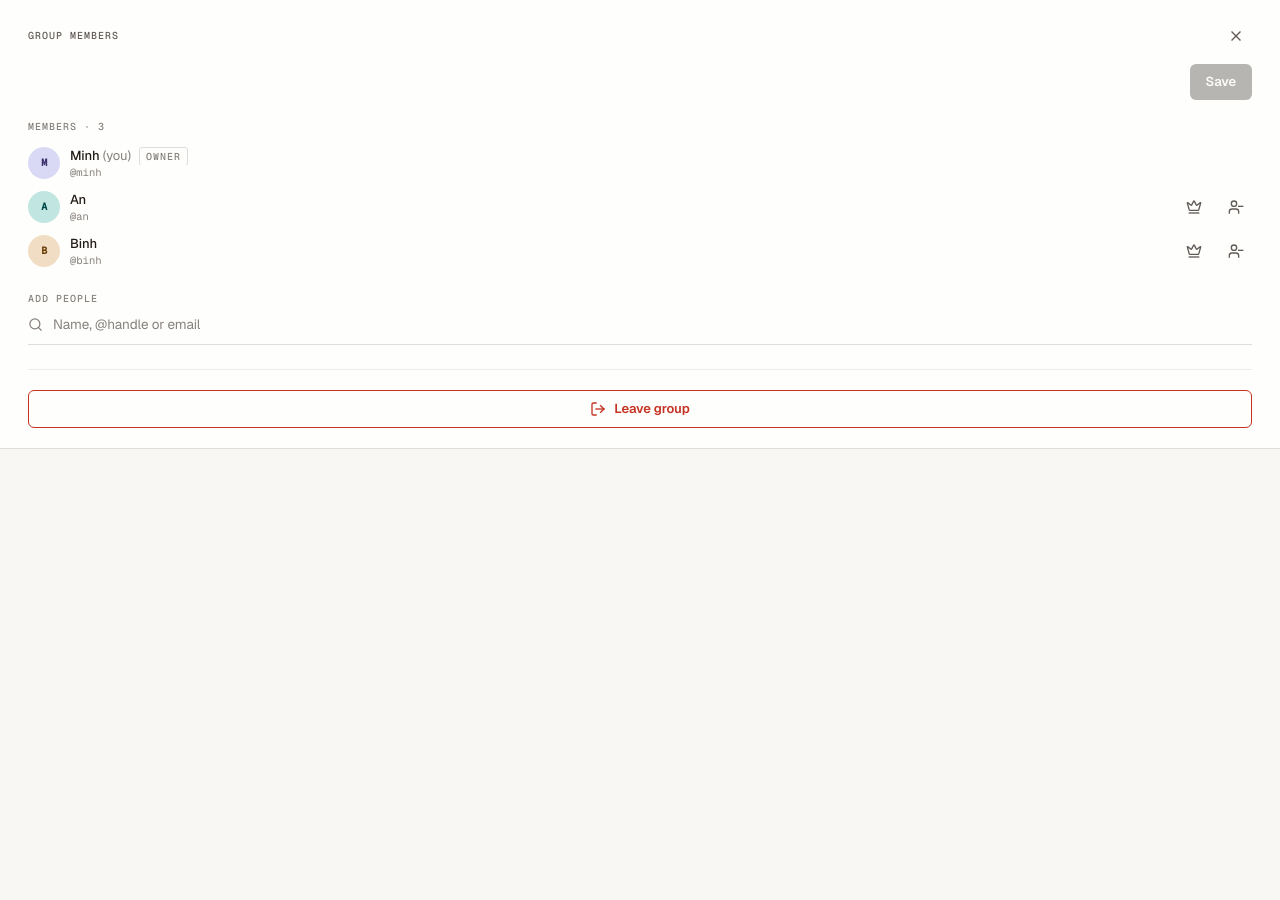
Test case: GroupMembersPanel › surfaces a failed removal instead of failing silently
Click the button named "Remove An from the group": click(1236, 207) [1220, 191, 1252, 223]
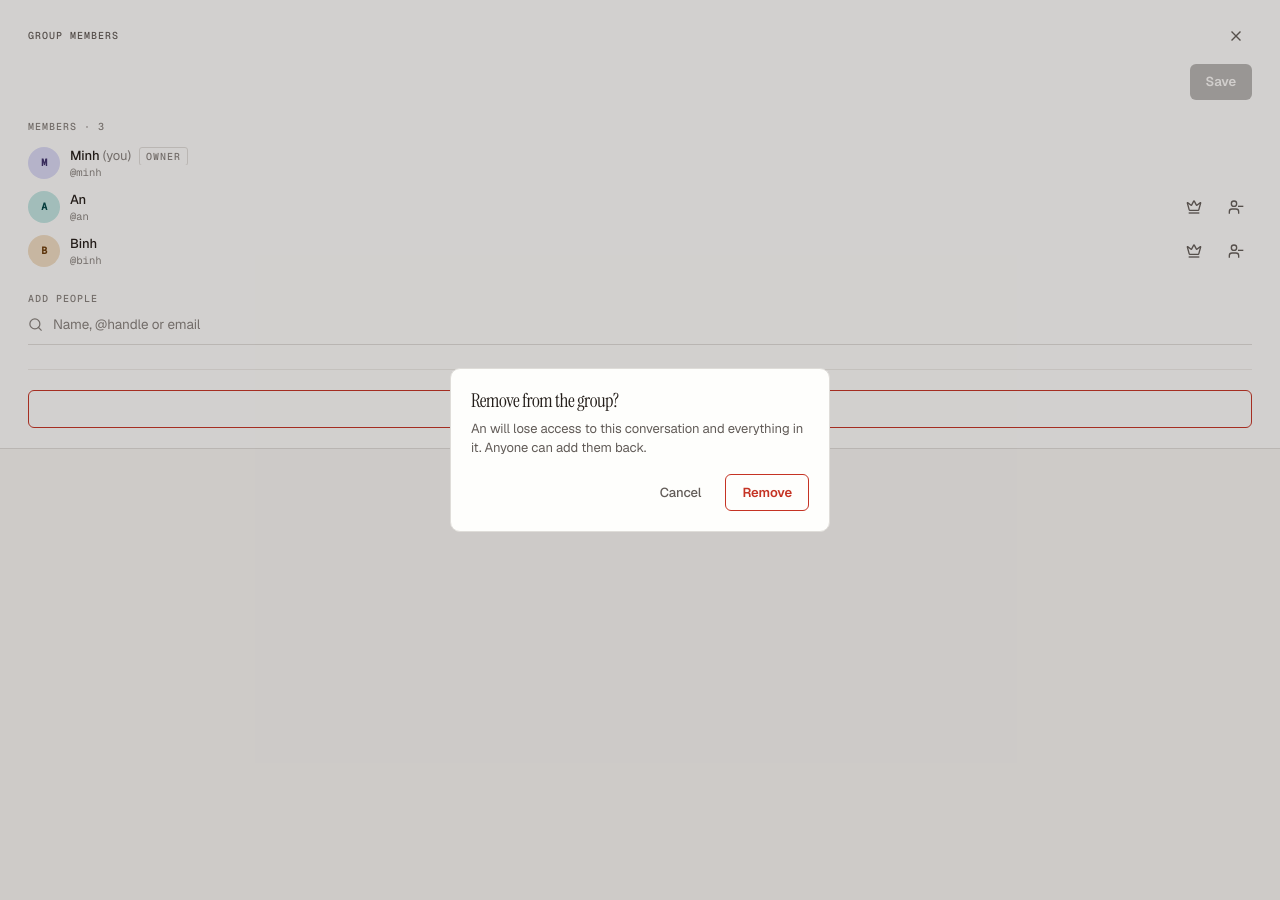
Click the button "Remove": click(767, 492) [725, 474, 809, 511]
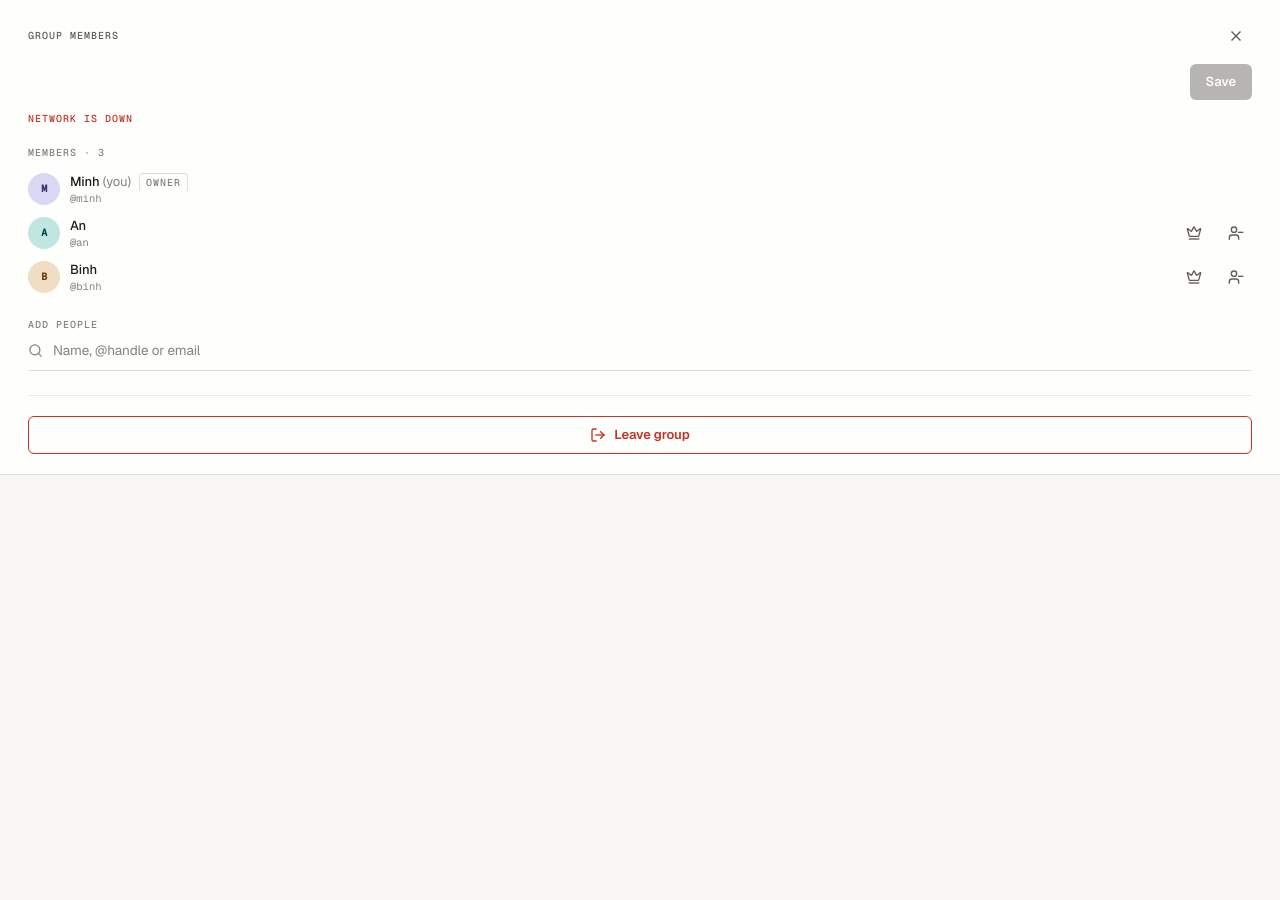
Expected: the text "Network is down" is shown, [28, 112, 133, 124]
